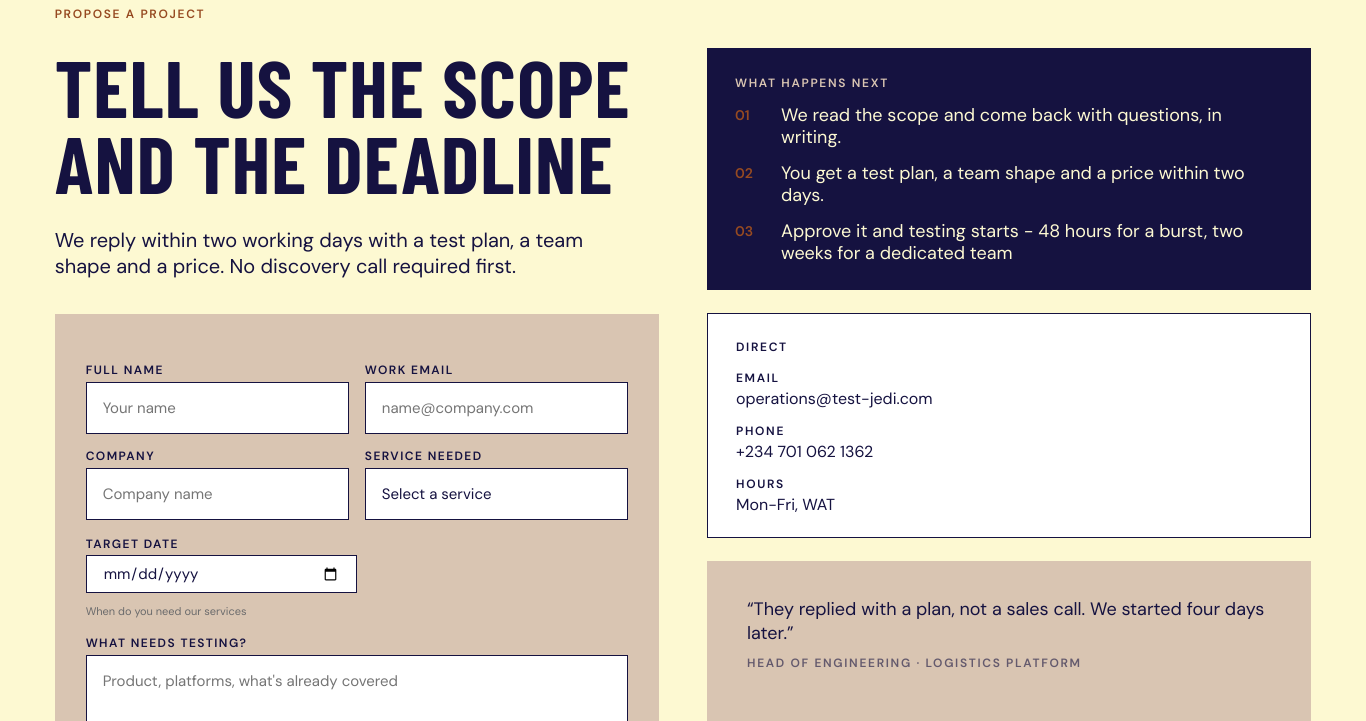
ContactSection notifications › shows an error toast when the submission fails
Type "Jane Applicant" into the field labelled "Full name" at [217, 408], box top-left (86, 382), bottom-right (349, 434)
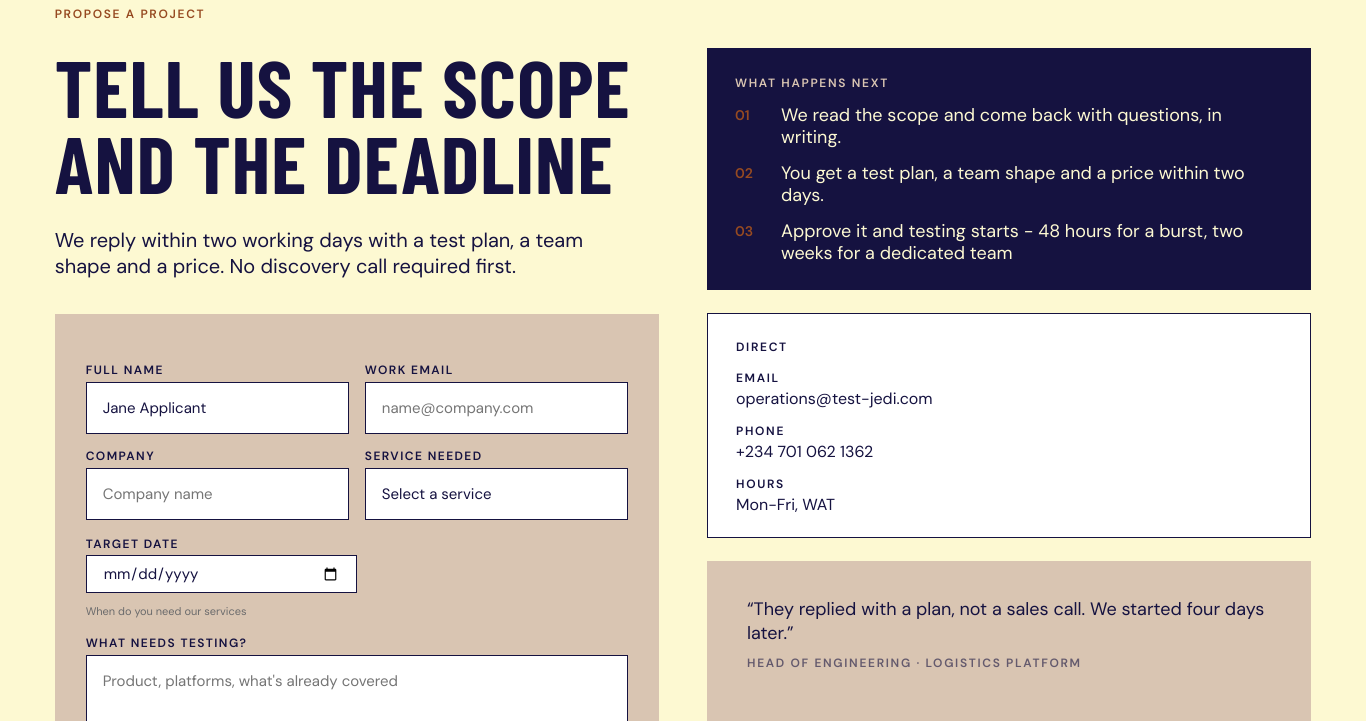
Type "jane@example.com" into the field labelled "Work email" at [496, 408], box top-left (365, 382), bottom-right (628, 434)
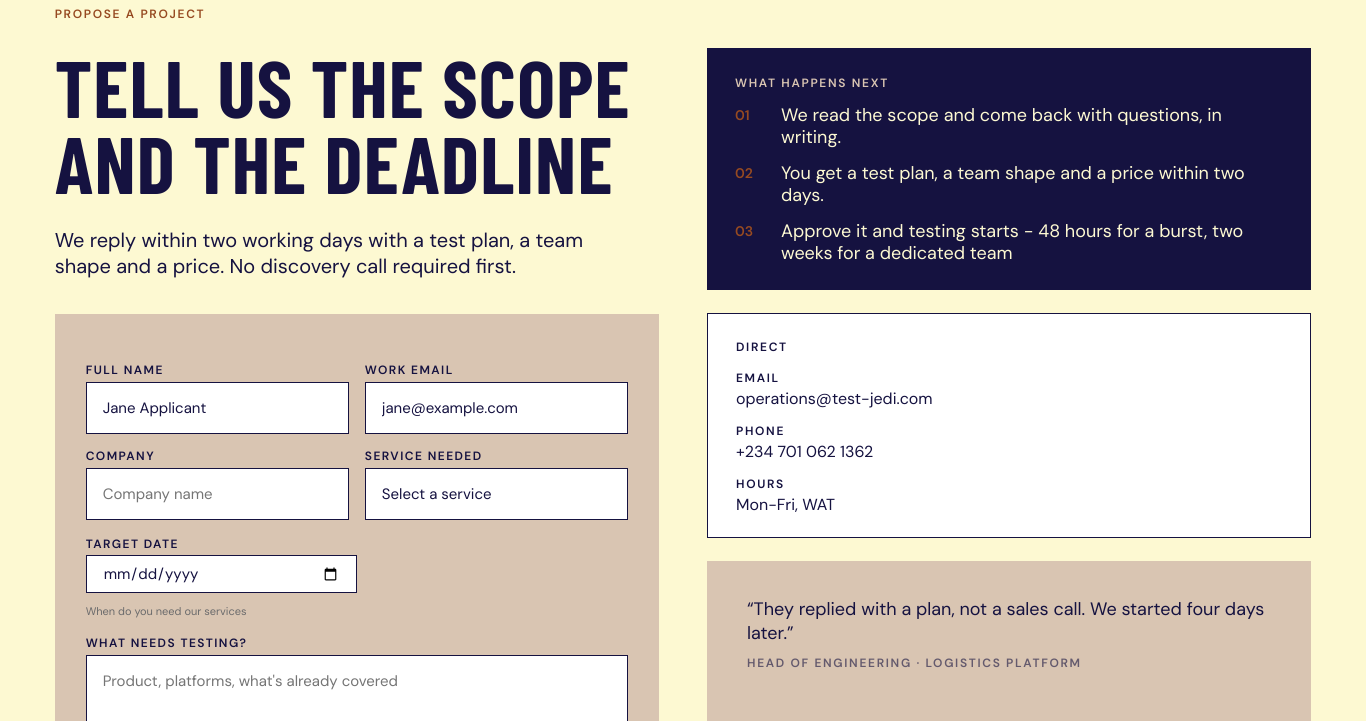
Type "Example Co" into the field labelled "Company" at [217, 494], box top-left (86, 468), bottom-right (349, 520)
(page scrolled)
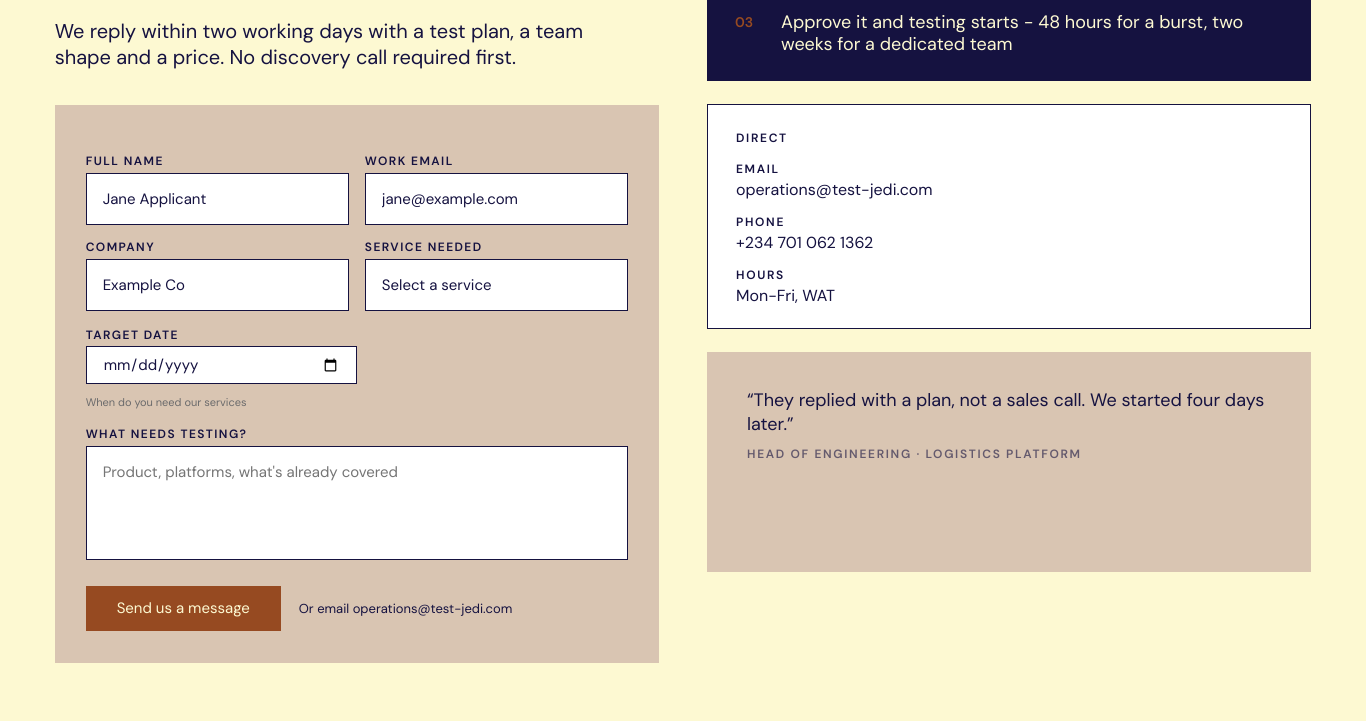
Type "A web application" into the text box labelled "What needs testing?" at [357, 502], box top-left (86, 446), bottom-right (628, 560)
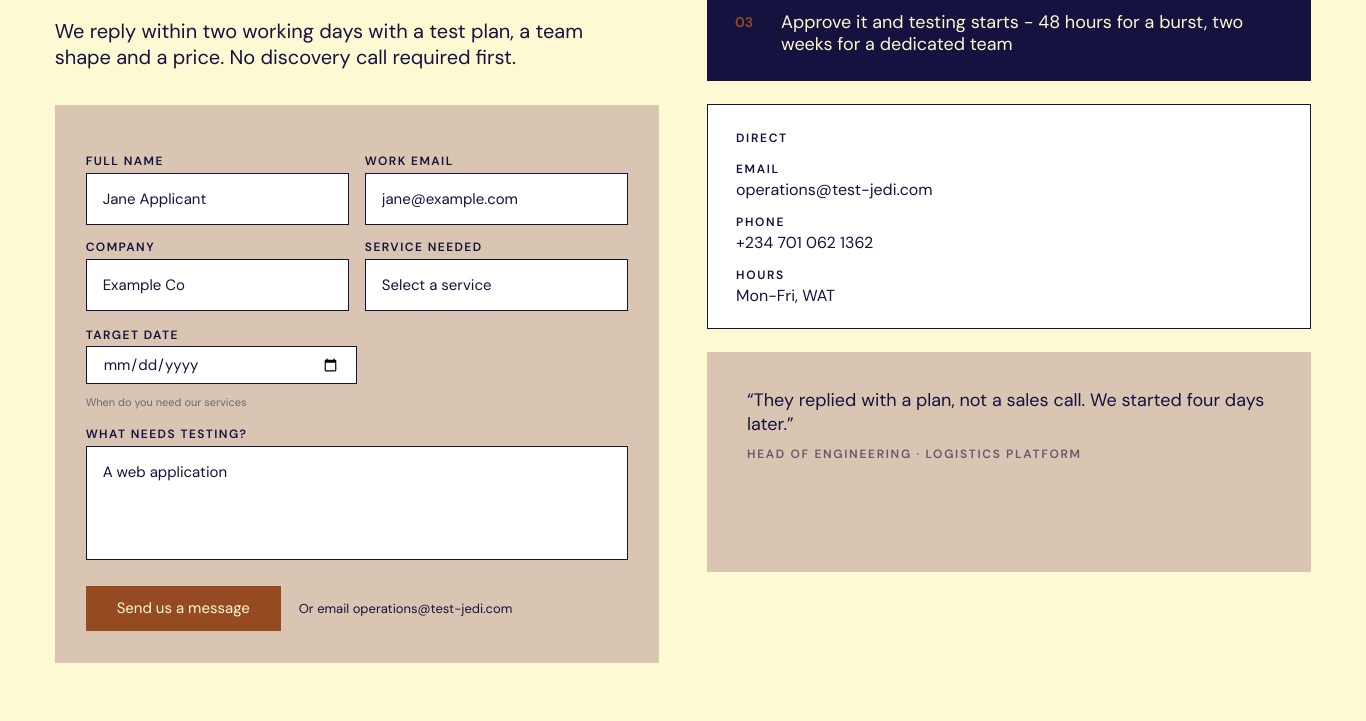
Submit the form named "Send us a message", box top-left (55, 105), bottom-right (659, 662)
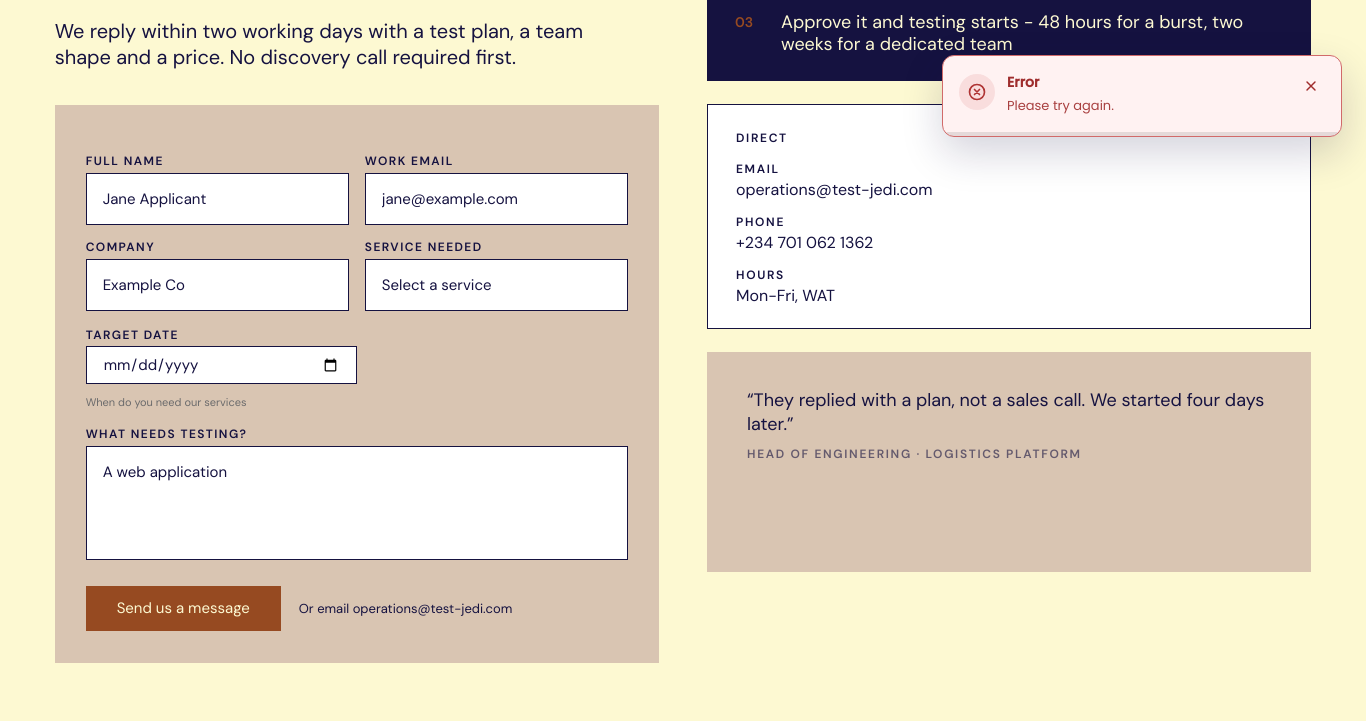
expect the message shows "Error": met, box top-left (1007, 72), bottom-right (1039, 92)
expect the text "Please try again." is shown: met, box top-left (1007, 96), bottom-right (1114, 115)
